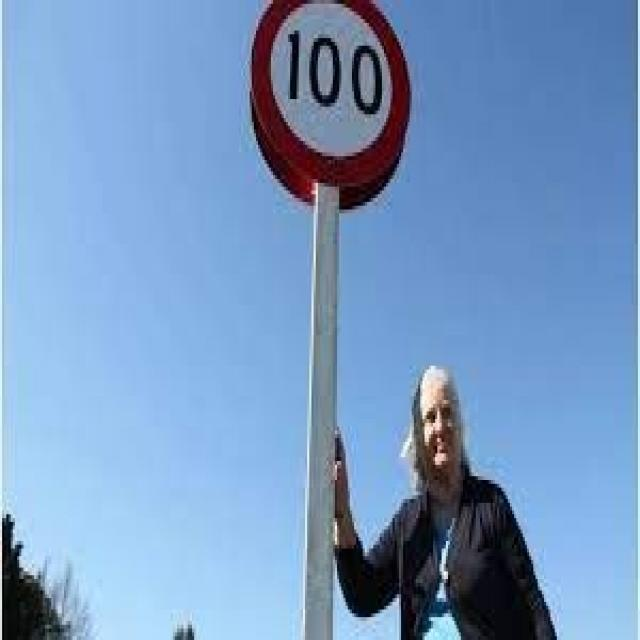speed_limit_100: (236, 2, 417, 208)
